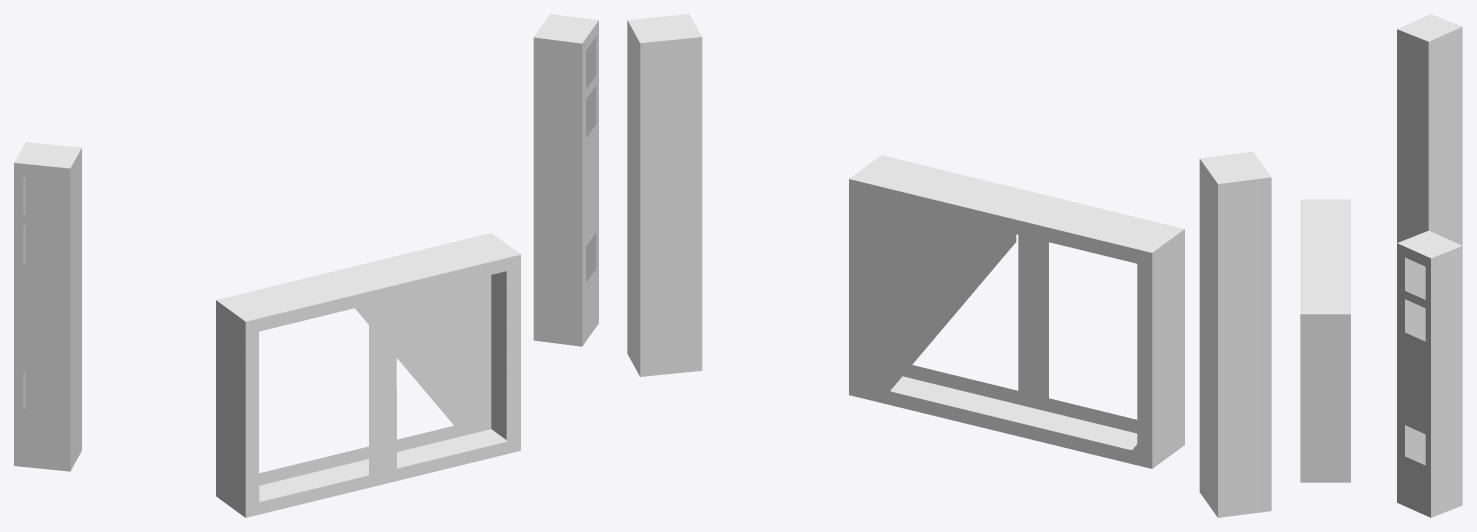
Rendered from scene_lawennushandao_building04a.FBX.
3 renders of one model, left to right at view 1: azimuth 30°, elevation 25°; view 2: azimuth 150°, elevation 25°; view 3: azimuth 270°, elevation 25°, orthographic. The views are drawn at different scales.
Parts seen in each view (by area): view 1: scene_lawennushandao_building04a; view 2: scene_lawennushandao_building04a; view 3: scene_lawennushandao_building04a.
Part boxes in pixels (x1,y1,x2,y2): scene_lawennushandao_building04a: (14, 14, 598, 517); scene_lawennushandao_building04a: (627, 14, 1271, 517); scene_lawennushandao_building04a: (1300, 14, 1462, 517).
Bounding box in the file's own units: 446 × 245 × 125.
